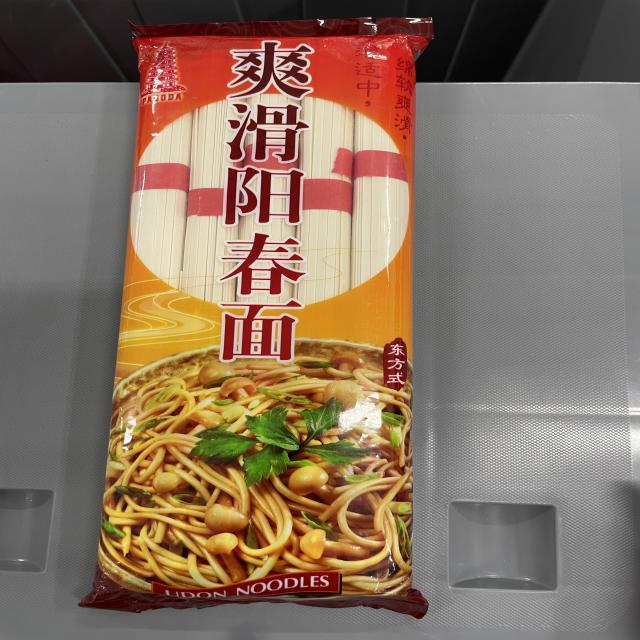object_name: (131, 37, 402, 592)
